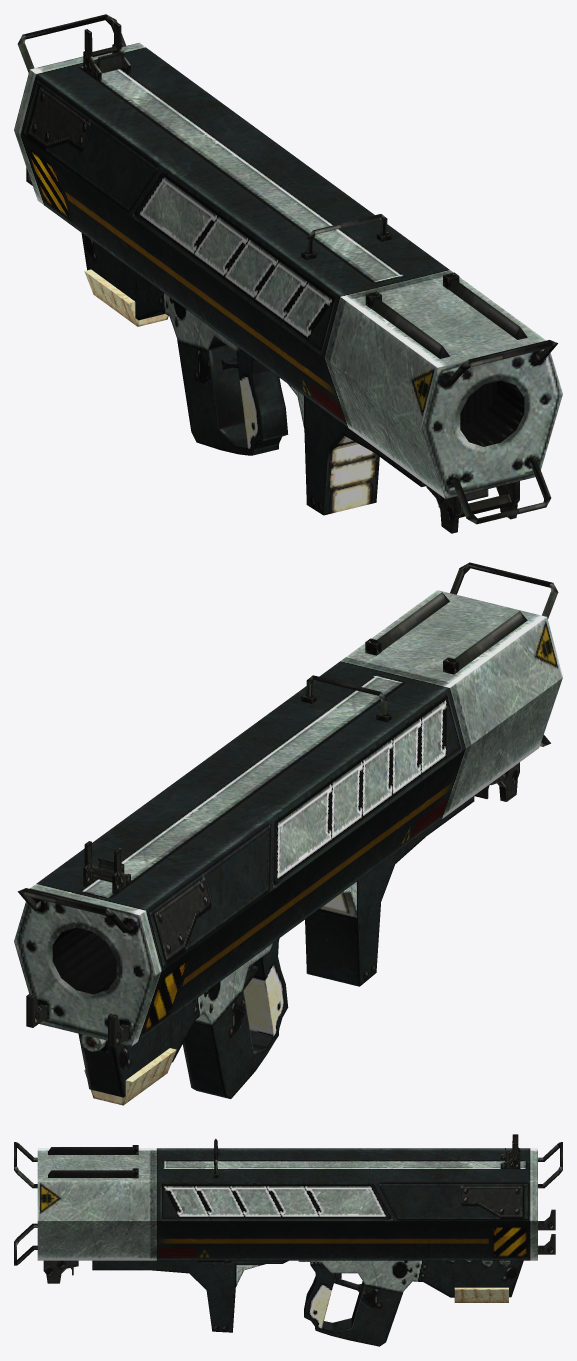
Rendered from Bazuka.obj.
3 views of the same model, one above another, from view 1: azimuth 30°, elevation 25°; view 2: azimuth 150°, elevation 25°; view 3: azimuth 270°, elevation 25° (orthographic). The views are drawn at different scales.
Parts seen in each view (by area): view 1: Box001; view 2: Box001; view 3: Box001.
Part boxes in pixels (<box>): Box001: <box>14,14,562,533</box>; Box001: <box>14,562,562,1105</box>; Box001: <box>14,1134,562,1346</box>.
Bounding box in the file's own units: 44.87 × 100 × 246.
